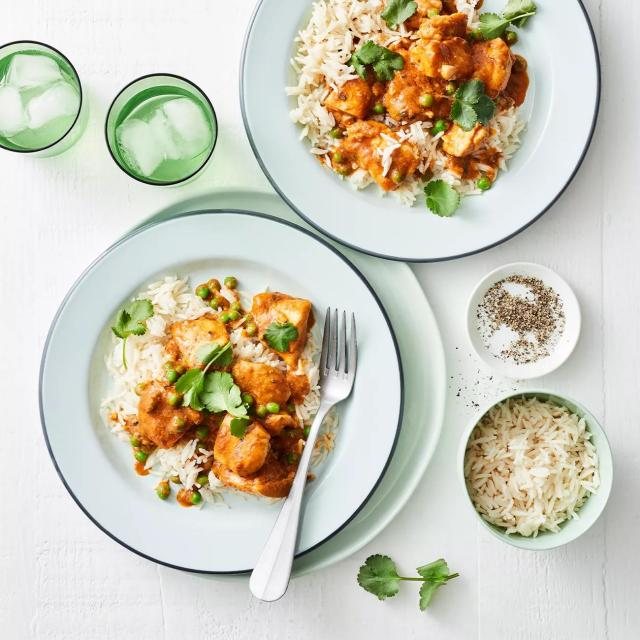chicken: (345, 11, 520, 193), (153, 293, 318, 474)
rice: (479, 398, 591, 530)
